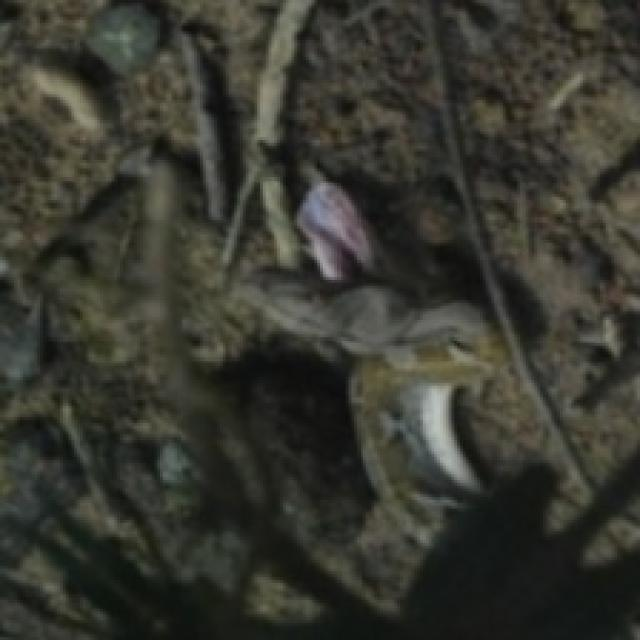reticulated python: (248, 180, 502, 546)
